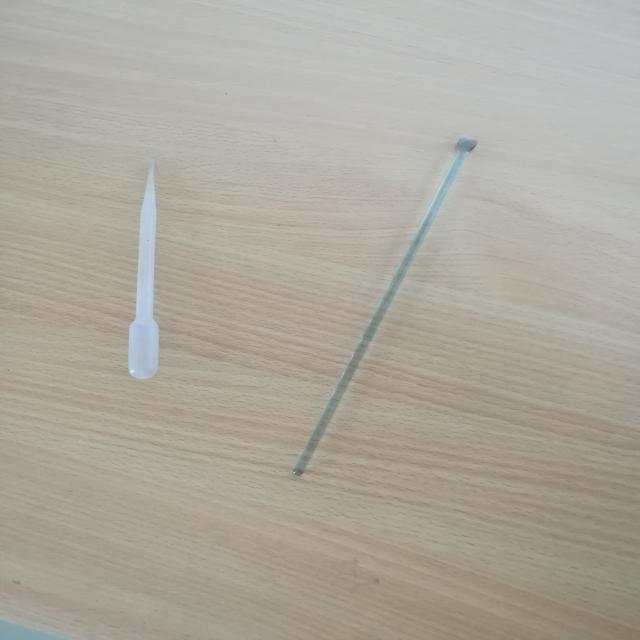Glass_Rod: (265, 129, 542, 501)
Pipette: (93, 139, 222, 403)
